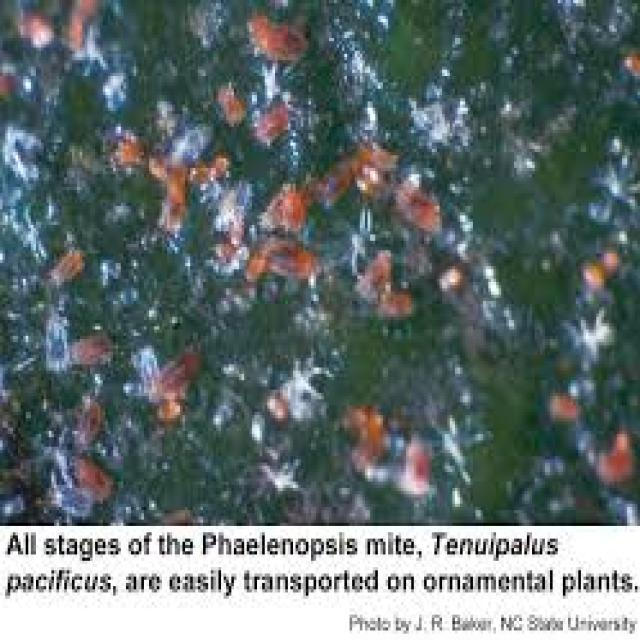Mites: (146, 324, 210, 421), (346, 394, 391, 486), (55, 320, 124, 377), (396, 427, 446, 504), (244, 8, 312, 64), (41, 225, 91, 295), (56, 0, 107, 68), (71, 451, 125, 515), (244, 92, 298, 153), (590, 416, 634, 490), (158, 158, 198, 230), (576, 246, 624, 304), (13, 5, 61, 58), (210, 72, 247, 126), (191, 150, 238, 190), (111, 120, 150, 168), (74, 388, 107, 438), (541, 386, 578, 421), (154, 493, 197, 522), (268, 382, 292, 430), (0, 62, 30, 100), (619, 42, 640, 82)
